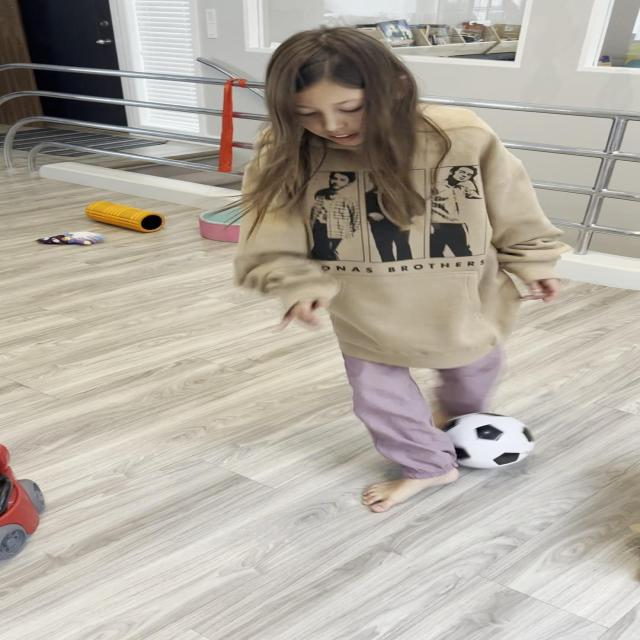Soccer Ball: (431, 411, 533, 468)
